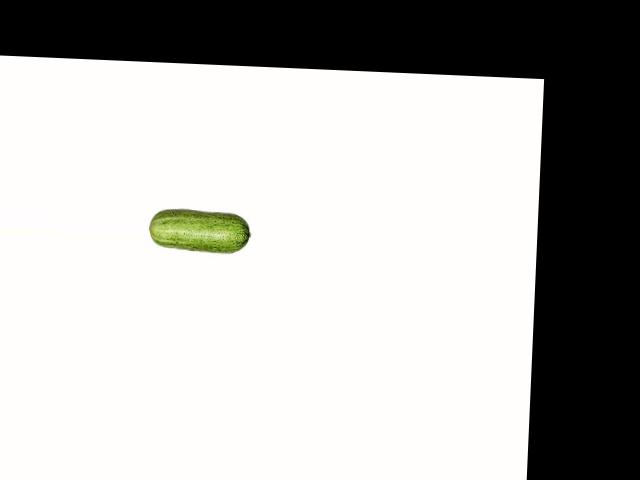cucumber: (148, 208, 252, 253)
